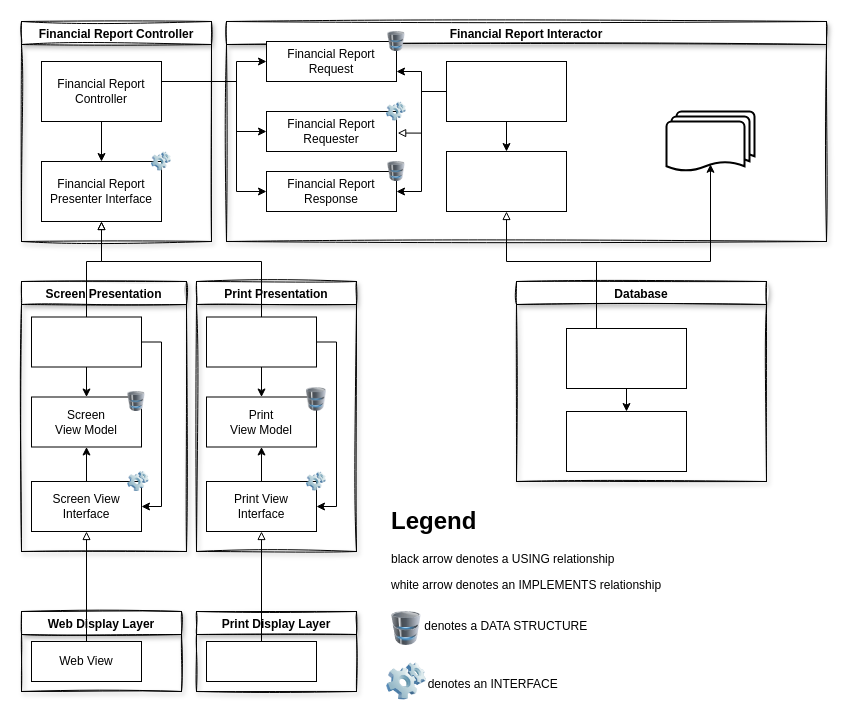
Some shapes in this 850 by 719 pixel diagram are drawn without their labels. The centre of each missing label's shape, as x and y in pixels:
"Financial Data Mappter" goes at point (626, 358).
"Financial Database" goes at point (626, 441).
"Financial Entities" goes at point (710, 141).
"Financial Report Data Gateway" goes at point (506, 181).
"Financial Report Generator" goes at point (506, 91).
"Print Presentation Controller" goes at point (261, 341).
"Print View" goes at point (261, 661).
"Screen Presentation Controller" goes at point (86, 341).
